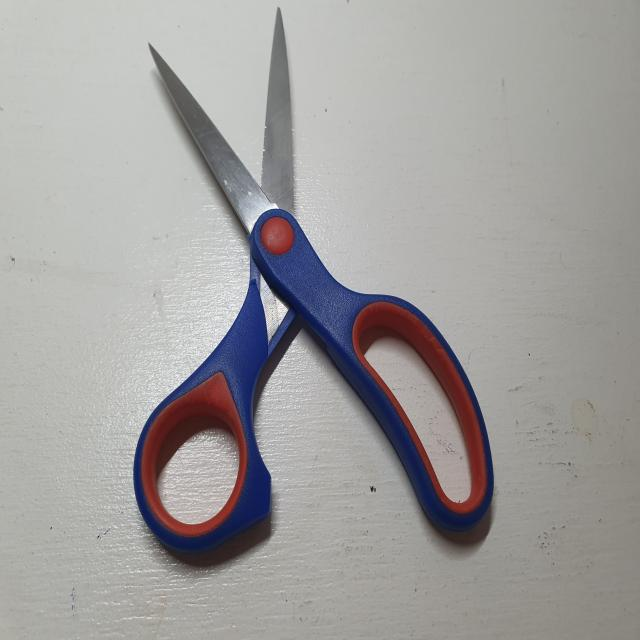scissor: (130, 5, 497, 570)
